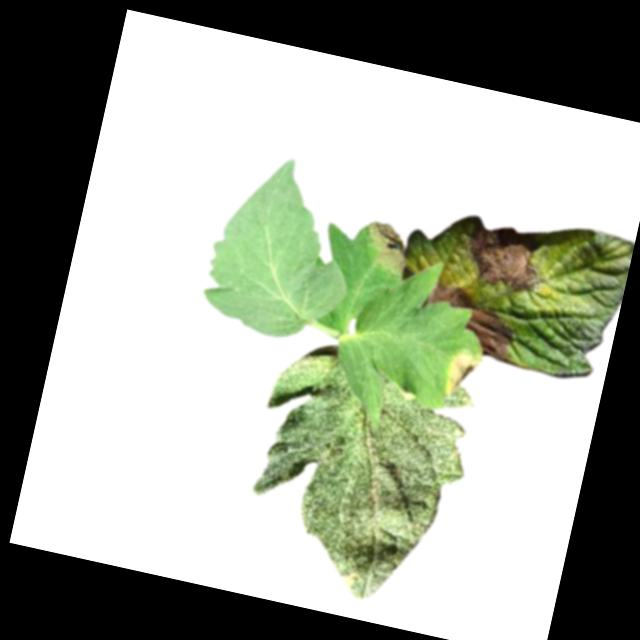Late_blight: (462, 224, 549, 294), (459, 306, 520, 364), (359, 218, 413, 279), (443, 348, 484, 401), (425, 276, 479, 316)
healthy: (231, 345, 483, 615), (196, 145, 373, 351)
